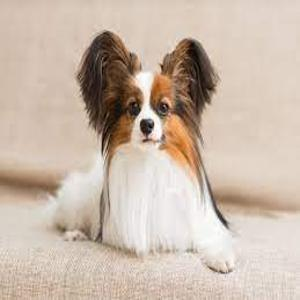yell: (43, 30, 237, 274)
